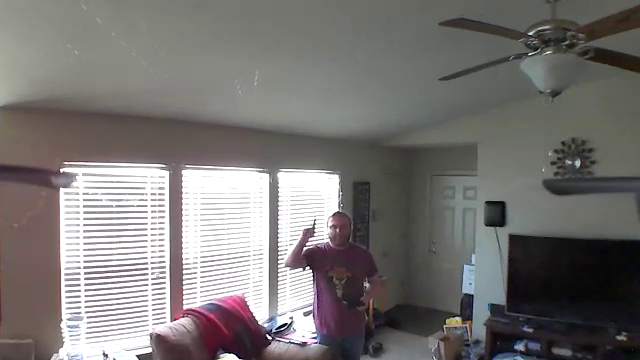up: (299, 215, 320, 245)
